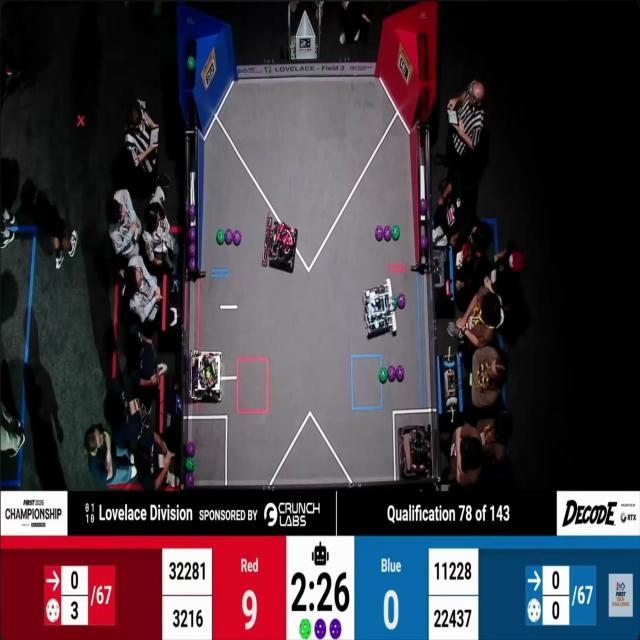artifact_green: (299, 619, 311, 640), (379, 367, 388, 383), (388, 365, 396, 382), (396, 366, 404, 382), (186, 457, 194, 473), (217, 229, 225, 245), (392, 225, 400, 240), (154, 0, 161, 16), (188, 56, 195, 70), (392, 296, 397, 310)
artifact_purple: (315, 619, 326, 639), (330, 619, 341, 639), (395, 366, 405, 382), (388, 366, 396, 382), (188, 226, 196, 242), (376, 225, 384, 241), (192, 367, 198, 388), (186, 473, 195, 486), (420, 198, 427, 214), (187, 442, 195, 456), (225, 230, 233, 244), (384, 226, 391, 241), (234, 230, 241, 245), (421, 235, 428, 250), (398, 294, 405, 309), (189, 258, 196, 272), (189, 243, 195, 257), (189, 205, 195, 219)
